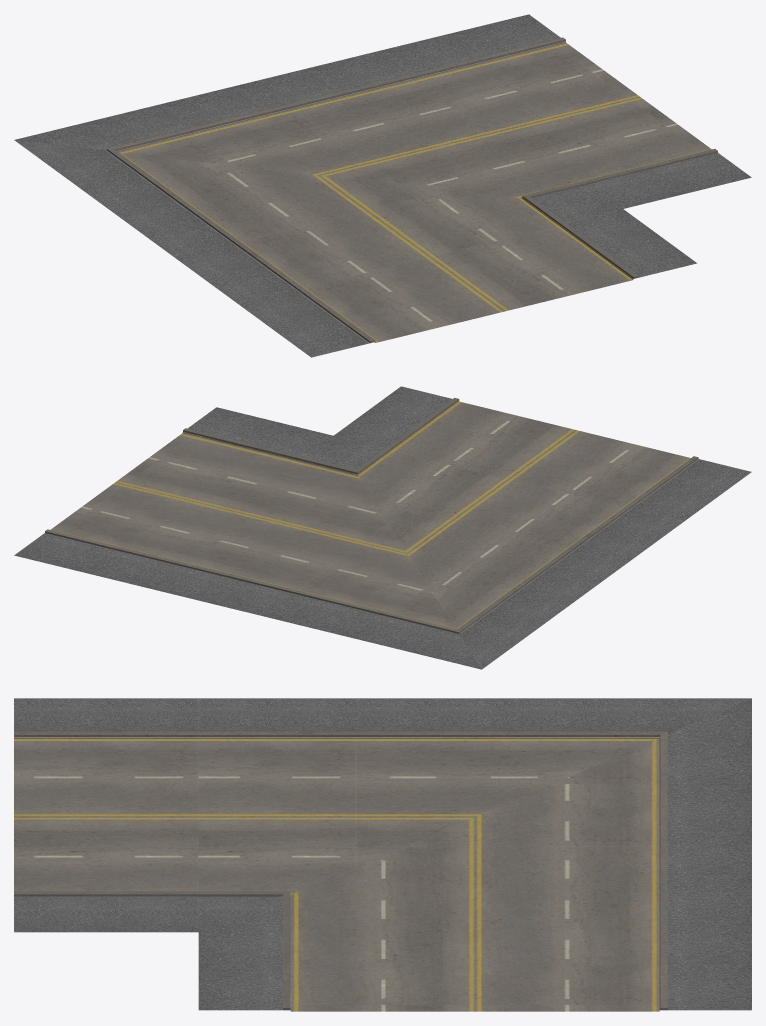
The model's file is turn.fbx.
3 renders of one model, top to bottom at view 1: azimuth 30°, elevation 25°; view 2: azimuth 150°, elevation 25°; view 3: azimuth 270°, elevation 25°, orthographic. The views are drawn at different scales.
Visible parts, largest first — view 1: mcp_roads_part_02.001; view 2: mcp_roads_part_02.001; view 3: mcp_roads_part_02.001.
Boxes of the visible parts, x1,y1,x2,y2 form: mcp_roads_part_02.001: [14, 14, 751, 357]; mcp_roads_part_02.001: [14, 386, 751, 669]; mcp_roads_part_02.001: [14, 698, 751, 1011].
Bounding box in the file's own units: 4000 × 21.46 × 4000.
